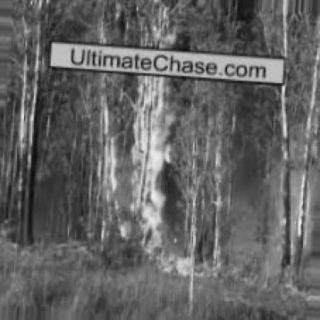Fire: (126, 6, 200, 274)
